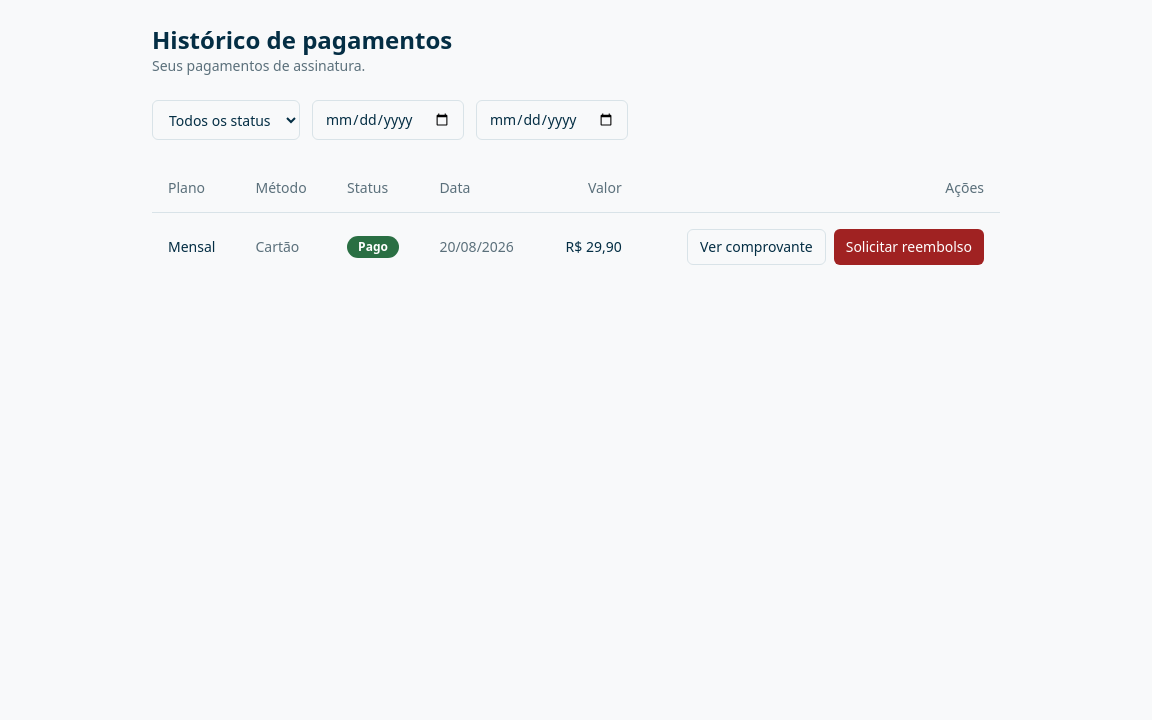
Scenario: PaymentsHistoryPage › mostra o prazo de devolução do cartão antes de confirmar o reembolso
The width and height of the screenshot is (1152, 720).
Click the button "Solicitar reembolso". click: coordinates (909, 246)
box: [834,228,984,264]
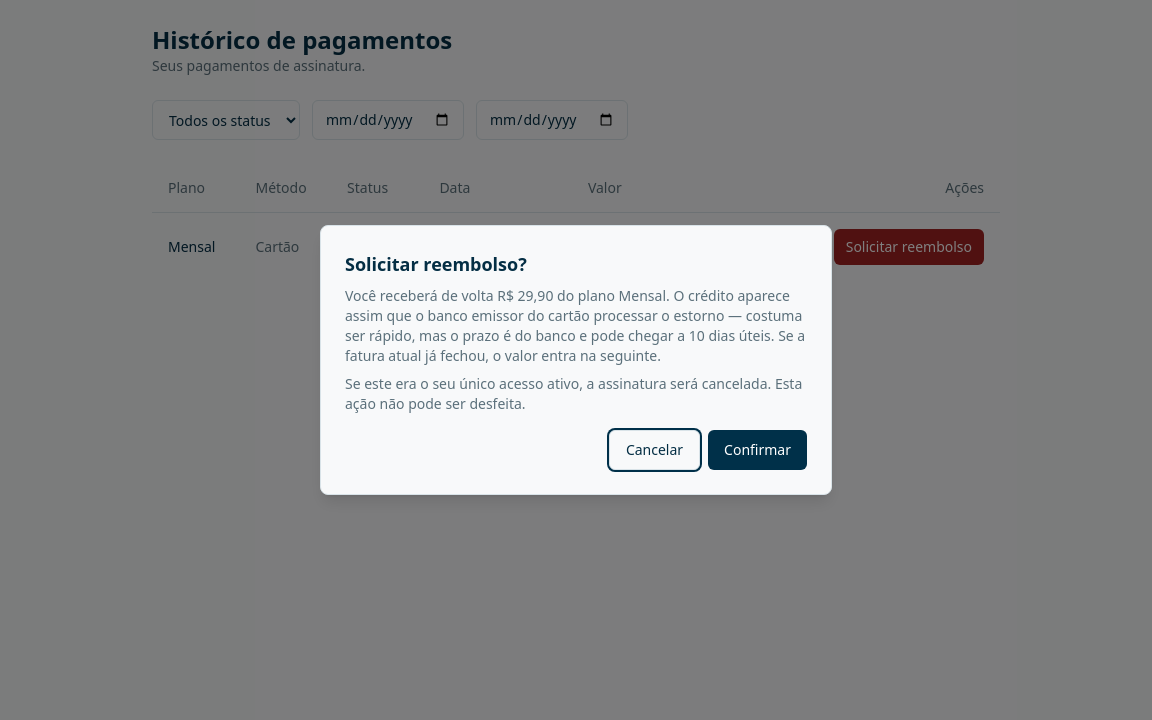
expect the text "pode chegar a 10 dias úteis" is shown: met, box [345,286,805,365]
